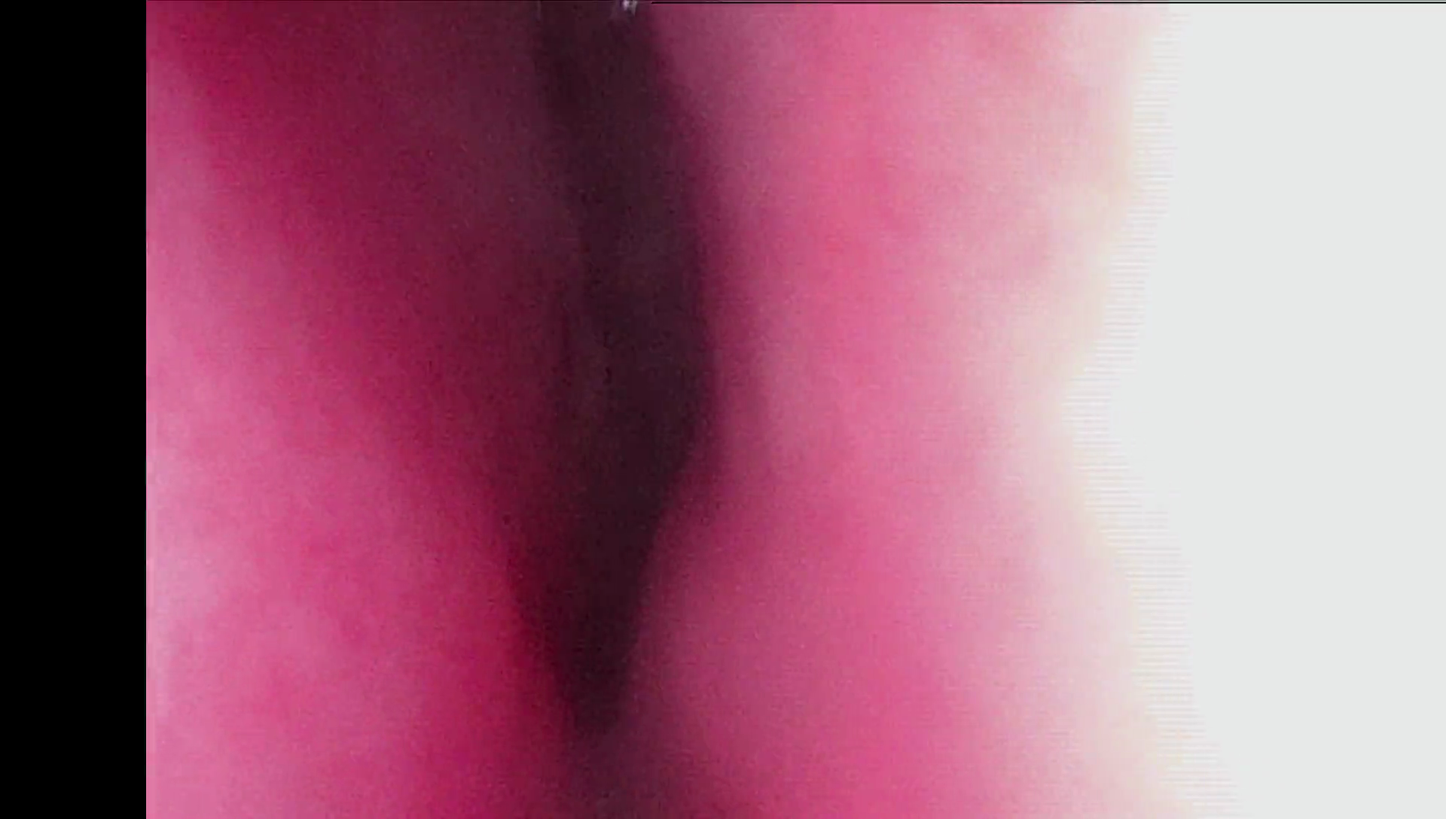close_wall: (797, 11, 1446, 819), (161, 260, 405, 819)
next: (499, 200, 751, 745)
